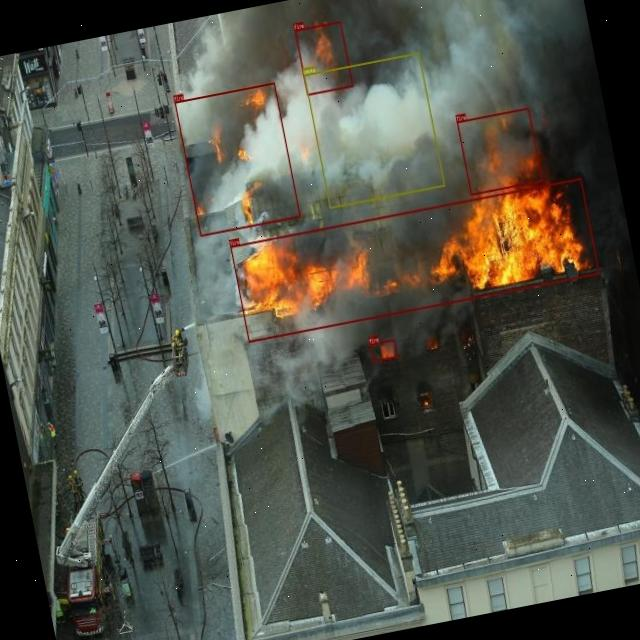fire: (230, 178, 600, 342), (175, 82, 301, 236), (457, 107, 542, 195), (294, 20, 353, 96), (370, 340, 398, 362)
smoke: (304, 52, 445, 208)
